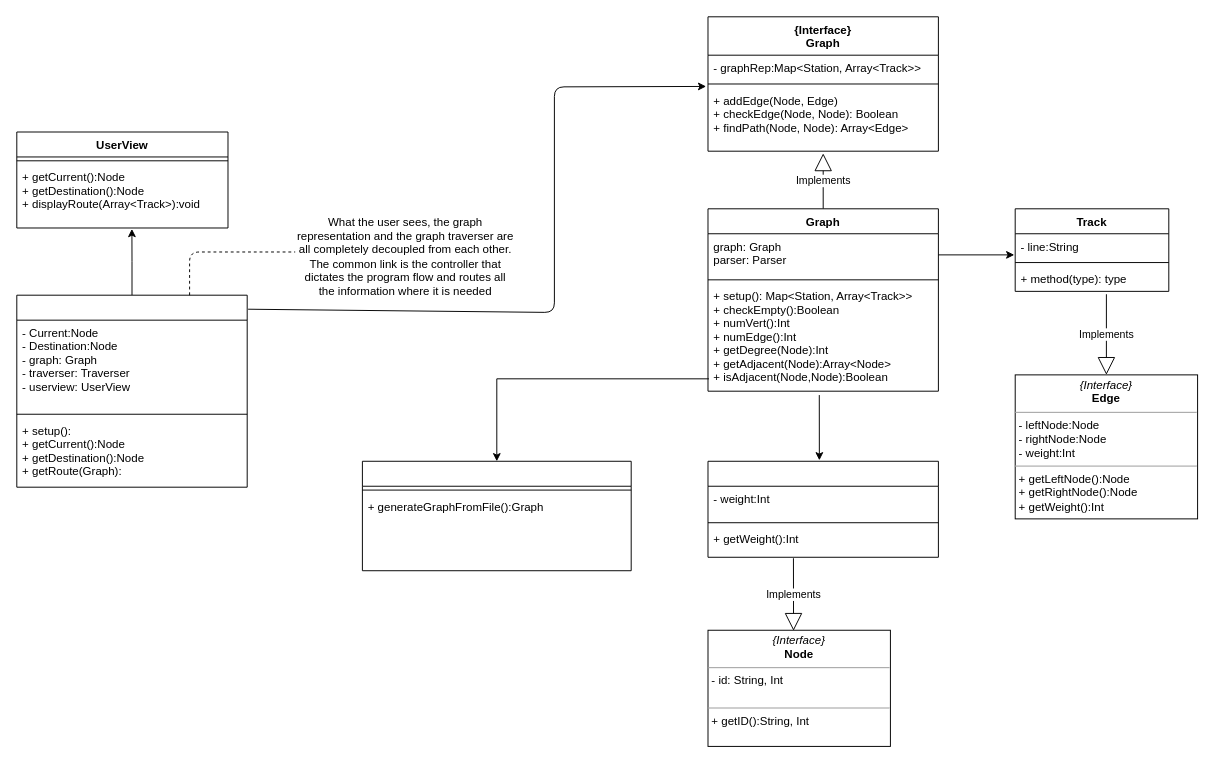
Image size: 1214x763. Some labels were removed from this diagram. The box of each missing label's shape, as (x1, y1, x2, y2) in pixels:
Controller (Main): (16, 294, 247, 487)
Parser: (361, 460, 631, 571)
Station: (707, 460, 938, 557)
